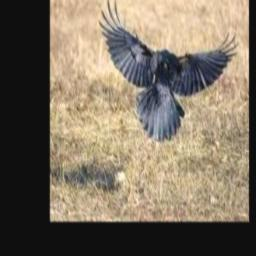Crow: (97, 0, 239, 141)
